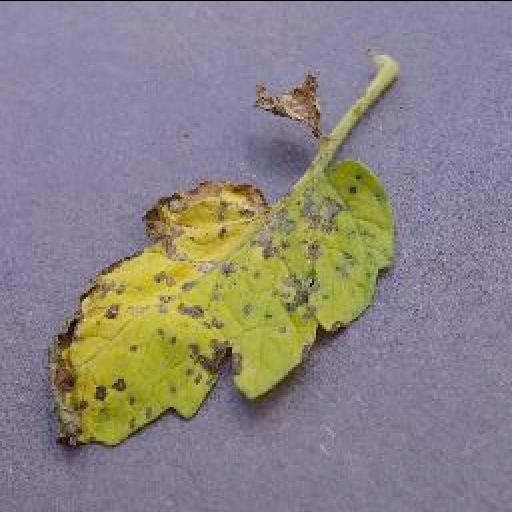disease_tomato: (48, 153, 394, 450)
